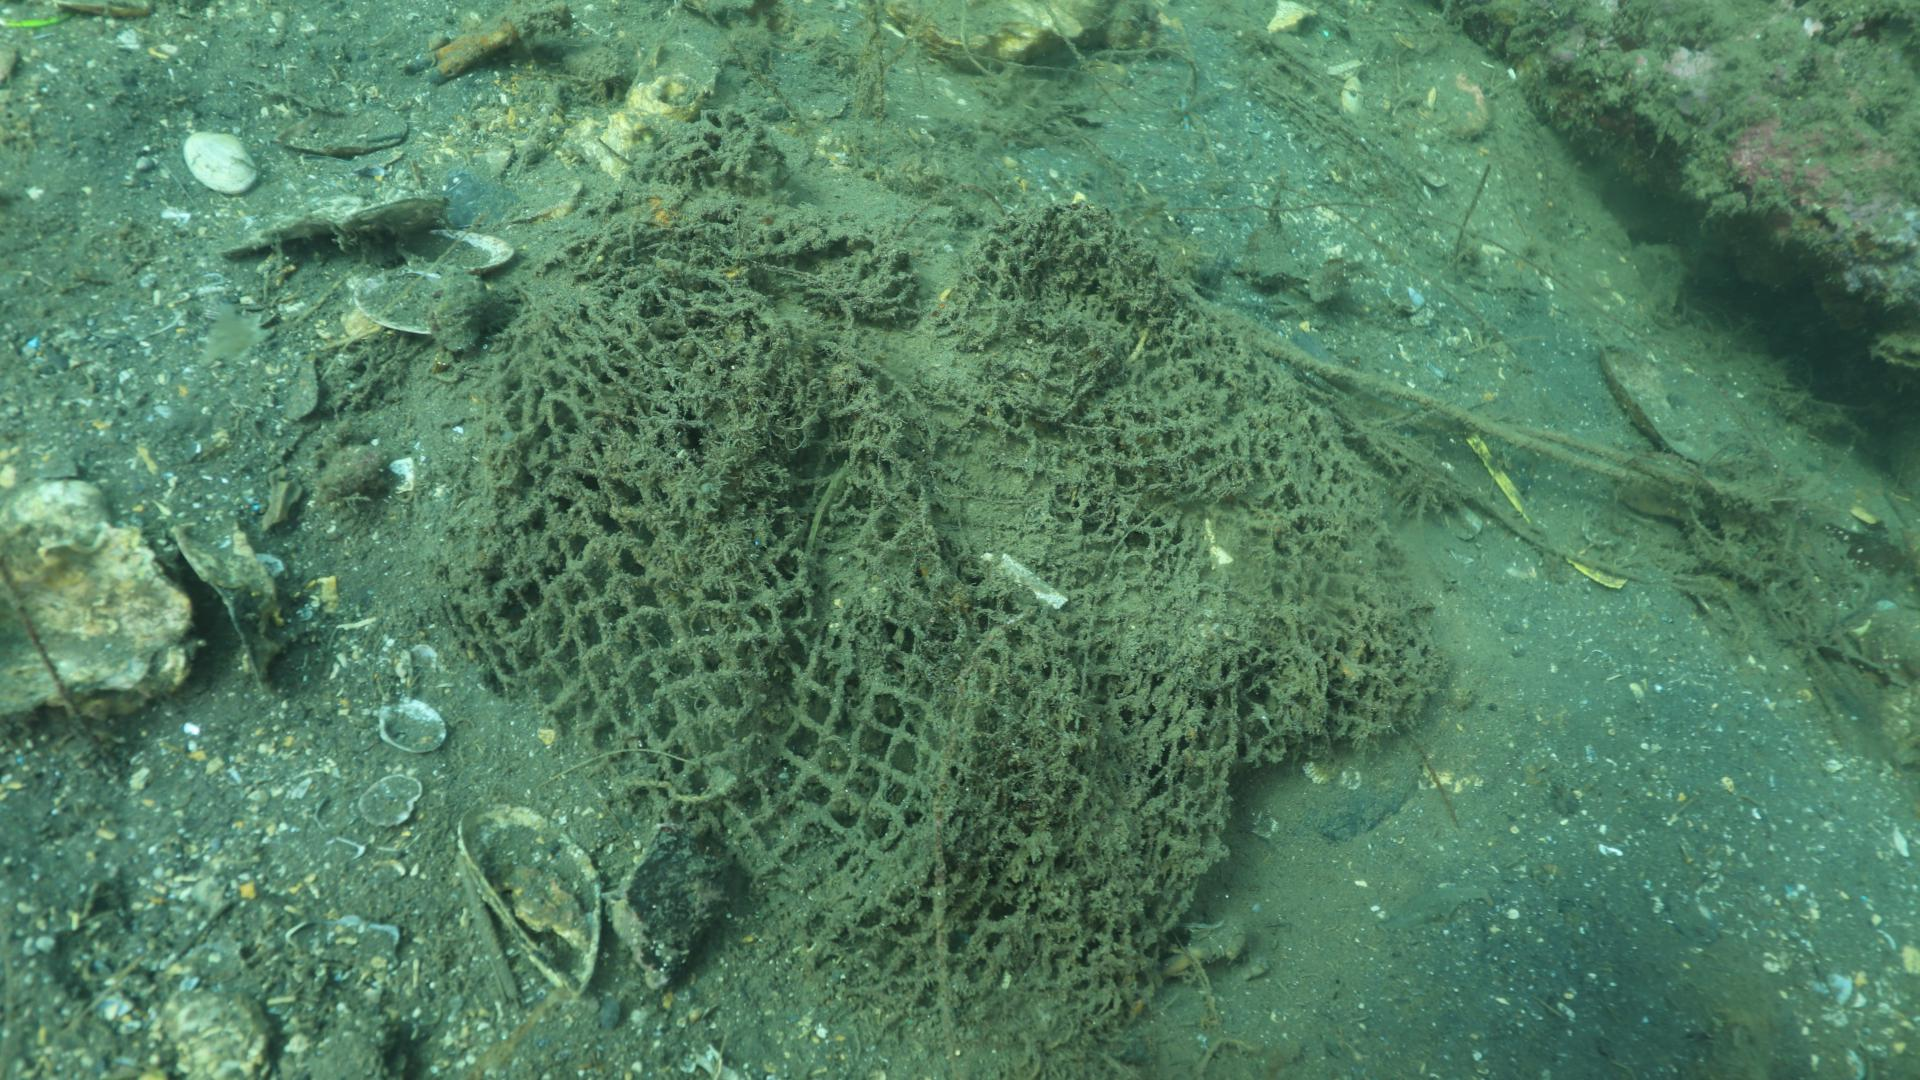bundle of ropes: (1168, 276, 1710, 497)
fish net: (448, 105, 1439, 1027)
